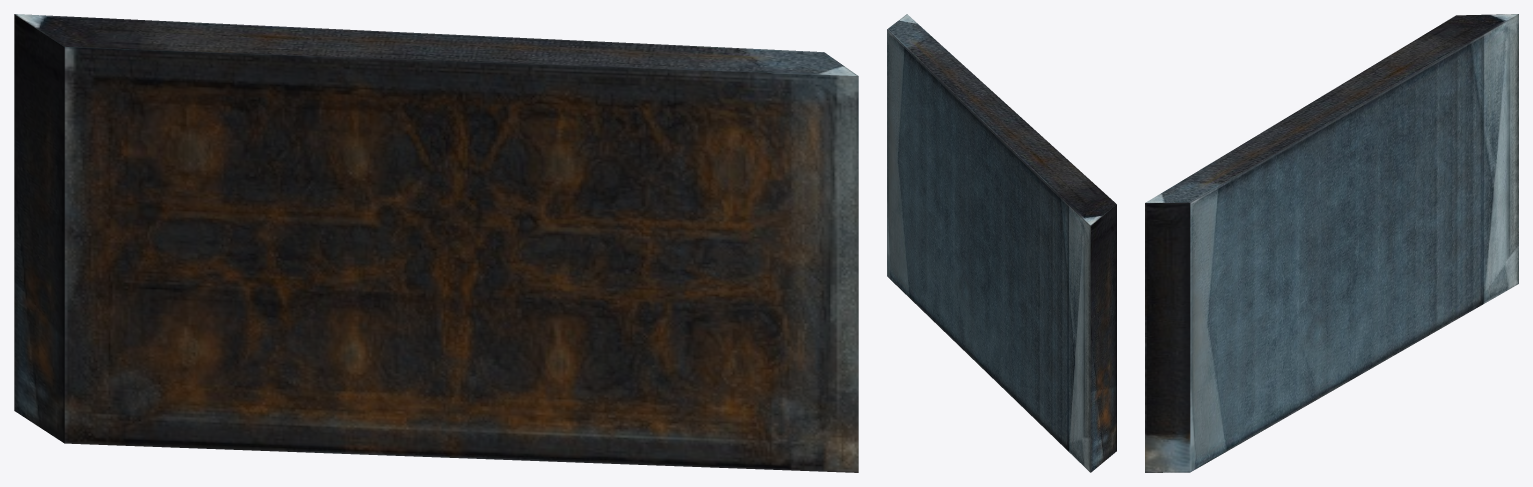
The model's file is murs_cible_left_lvl_3.glb.
3 views of the same model, side by side, from view 1: azimuth 30°, elevation 25°; view 2: azimuth 150°, elevation 25°; view 3: azimuth 270°, elevation 25° (orthographic). The views are drawn at different scales.
Parts seen in each view (by area): view 1: Mesh_0.006; view 2: Mesh_0.006; view 3: Mesh_0.006.
Part boxes in pixels (x1,y1,x2,y2): Mesh_0.006: (14,14,858,472); Mesh_0.006: (887,14,1116,472); Mesh_0.006: (1145,14,1518,472).
Bounding box in the file's own units: 0.1347 × 0.0896 × 0.1125.
1 material, 1 textured.
